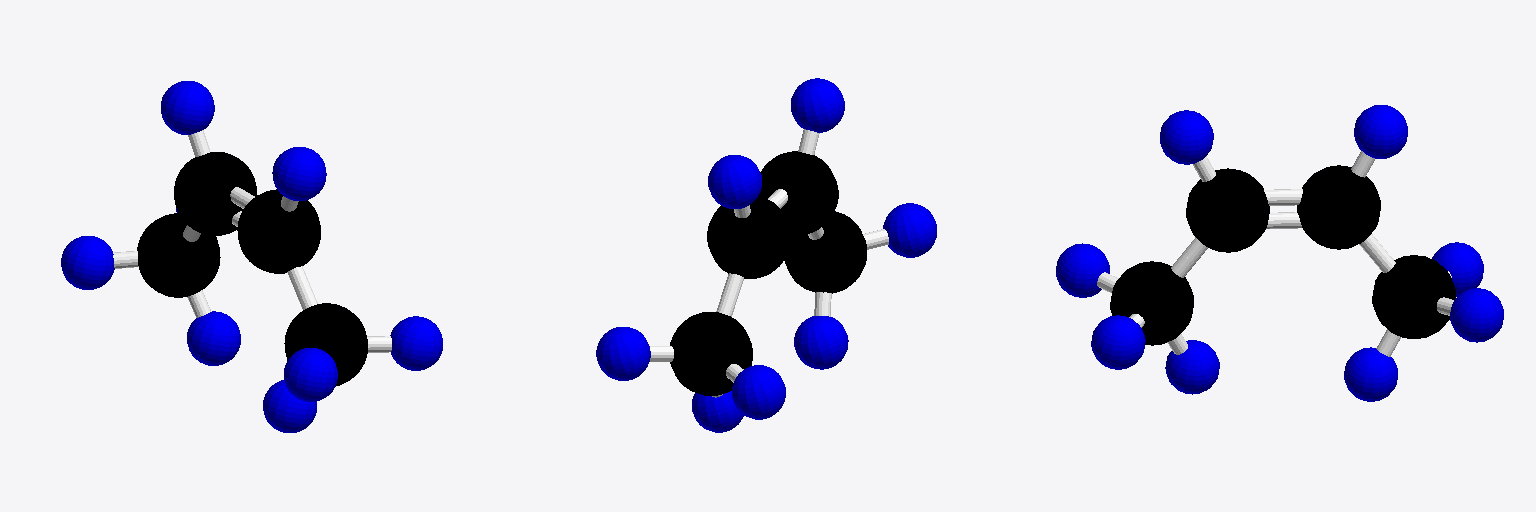
File: cis-but-2-eno.obj
The picture shows the model from 3 angles: view 1: azimuth 30°, elevation 25°; view 2: azimuth 150°, elevation 25°; view 3: azimuth 270°, elevation 25°; orthographic projection.
Visible parts, largest first — view 1: Shape_Sphere.001_Shape_Sphere.002, Shape_Sphere.007_Shape_Sphere.008, Shape_Sphere.005_Shape_Sphere.006, Shape_Sphere_Shape_Sphere.001, Shape_Sphere.002_Shape_Sphere.003, Shape_Sphere.006_Shape_Sphere.007, Shape_Sphere.008_Shape_Sphere.009, Shape_Sphere.011_Shape_Sphere.012, Shape_Sphere.009_Shape_Sphere.010, Shape_Sphere.003_Shape_Sphere.004, Shape_Sphere.004_Shape_Sphere.005; view 2: Shape_Sphere.007_Shape_Sphere.008, Shape_Sphere.005_Shape_Sphere.006, Shape_Sphere_Shape_Sphere.001, Shape_Sphere.001_Shape_Sphere.002, Shape_Sphere.010_Shape_Sphere.011, Shape_Sphere.011_Shape_Sphere.012, Shape_Sphere.008_Shape_Sphere.009, Shape_Sphere.004_Shape_Sphere.005, Shape_Sphere.006_Shape_Sphere.007, Shape_Sphere.002_Shape_Sphere.003, Shape_Sphere.009_Shape_Sphere.010; view 3: Shape_Sphere.001_Shape_Sphere.002, Shape_Sphere.005_Shape_Sphere.006, Shape_Sphere.007_Shape_Sphere.008, Shape_Sphere_Shape_Sphere.001, Shape_Sphere.003_Shape_Sphere.004, Shape_Sphere.008_Shape_Sphere.009, Shape_Sphere.006_Shape_Sphere.007, Shape_Sphere.010_Shape_Sphere.011, Shape_Sphere.009_Shape_Sphere.010, Shape_Sphere.002_Shape_Sphere.003, Shape_Sphere.004_Shape_Sphere.005, Shape_Sphere.011_Shape_Sphere.012.
Part boxes in pixels (bbox=[...]): Shape_Sphere.001_Shape_Sphere.002: bbox=[237, 189, 320, 273]; Shape_Sphere.007_Shape_Sphere.008: bbox=[137, 213, 220, 297]; Shape_Sphere.005_Shape_Sphere.006: bbox=[174, 152, 257, 235]; Shape_Sphere_Shape_Sphere.001: bbox=[284, 303, 367, 385]; Shape_Sphere.002_Shape_Sphere.003: bbox=[284, 348, 337, 401]; Shape_Sphere.006_Shape_Sphere.007: bbox=[272, 147, 326, 200]; Shape_Sphere.008_Shape_Sphere.009: bbox=[161, 81, 214, 134]; Shape_Sphere.011_Shape_Sphere.012: bbox=[61, 236, 114, 289]; Shape_Sphere.009_Shape_Sphere.010: bbox=[187, 311, 240, 365]; Shape_Sphere.003_Shape_Sphere.004: bbox=[390, 316, 442, 370]; Shape_Sphere.004_Shape_Sphere.005: bbox=[263, 380, 316, 432]; Shape_Sphere.007_Shape_Sphere.008: bbox=[670, 312, 752, 395]; Shape_Sphere.005_Shape_Sphere.006: bbox=[707, 196, 790, 278]; Shape_Sphere_Shape_Sphere.001: bbox=[784, 211, 866, 293]; Shape_Sphere.001_Shape_Sphere.002: bbox=[759, 151, 838, 235]; Shape_Sphere.010_Shape_Sphere.011: bbox=[596, 327, 650, 380]; Shape_Sphere.011_Shape_Sphere.012: bbox=[732, 365, 785, 419]; Shape_Sphere.008_Shape_Sphere.009: bbox=[708, 155, 761, 208]; Shape_Sphere.004_Shape_Sphere.005: bbox=[794, 316, 848, 369]; Shape_Sphere.006_Shape_Sphere.007: bbox=[791, 78, 844, 132]; Shape_Sphere.002_Shape_Sphere.003: bbox=[883, 203, 936, 257]; Shape_Sphere.009_Shape_Sphere.010: bbox=[692, 391, 743, 432]; Shape_Sphere.001_Shape_Sphere.002: bbox=[1186, 168, 1269, 252]; Shape_Sphere.005_Shape_Sphere.006: bbox=[1297, 165, 1380, 249]; Shape_Sphere.007_Shape_Sphere.008: bbox=[1372, 255, 1455, 338]; Shape_Sphere_Shape_Sphere.001: bbox=[1110, 261, 1193, 345]; Shape_Sphere.003_Shape_Sphere.004: bbox=[1091, 315, 1145, 369]; Shape_Sphere.008_Shape_Sphere.009: bbox=[1354, 105, 1407, 158]; Shape_Sphere.006_Shape_Sphere.007: bbox=[1160, 110, 1213, 164]; Shape_Sphere.010_Shape_Sphere.011: bbox=[1450, 288, 1503, 342]; Shape_Sphere.009_Shape_Sphere.010: bbox=[1344, 347, 1397, 401]; Shape_Sphere.002_Shape_Sphere.003: bbox=[1056, 243, 1109, 297]; Shape_Sphere.004_Shape_Sphere.005: bbox=[1165, 340, 1219, 394]; Shape_Sphere.011_Shape_Sphere.012: bbox=[1432, 242, 1483, 296].
Bounding box in the file's own units: 2.86 × 3.77 × 5.41.